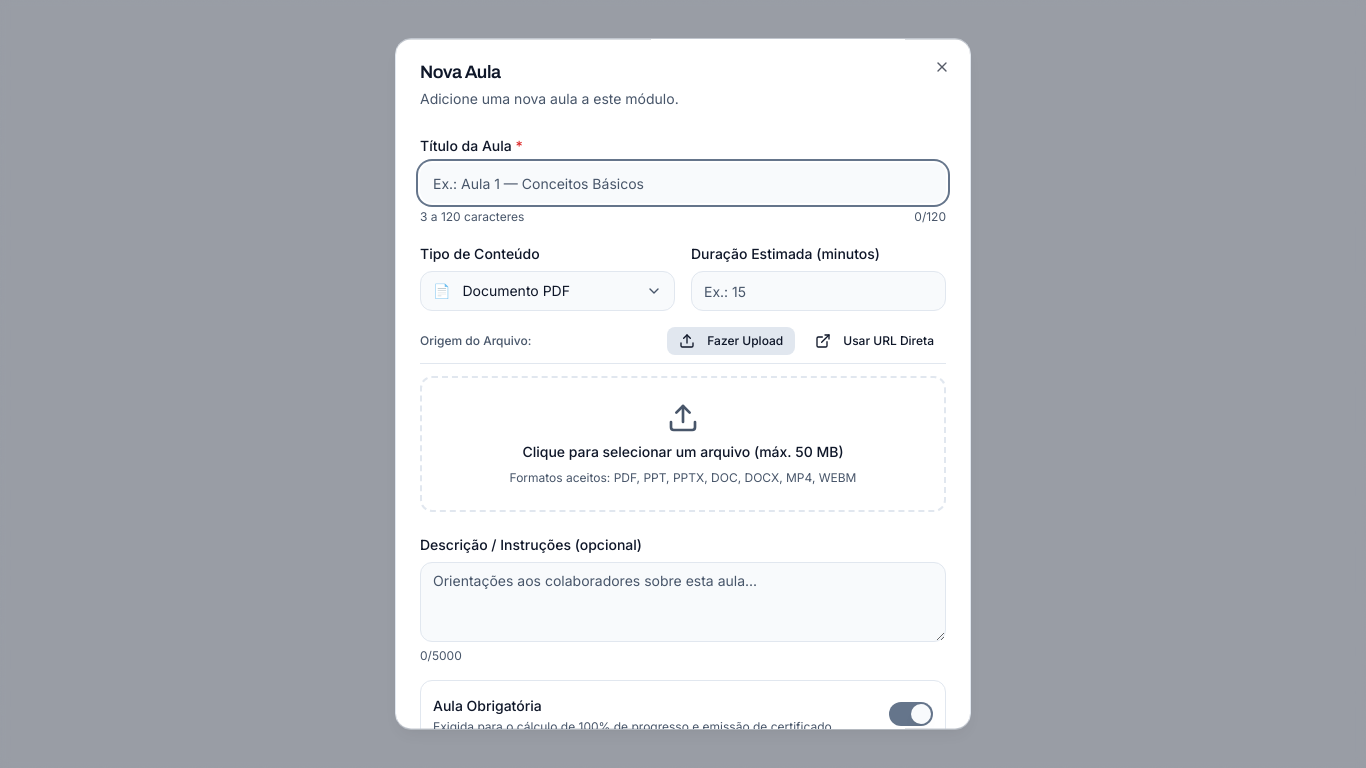
Scenario: ETAPA 9.6 — CRUD de Módulos, Aulas e Quiz (Passo 8.1 Validações) › c) valida título de aula (< 3 caracteres recusa)
The width and height of the screenshot is (1366, 768).
Type "Oi" into the field labelled "Título da Aula *" at (683, 183), box [420, 163, 946, 203]
(page scrolled)
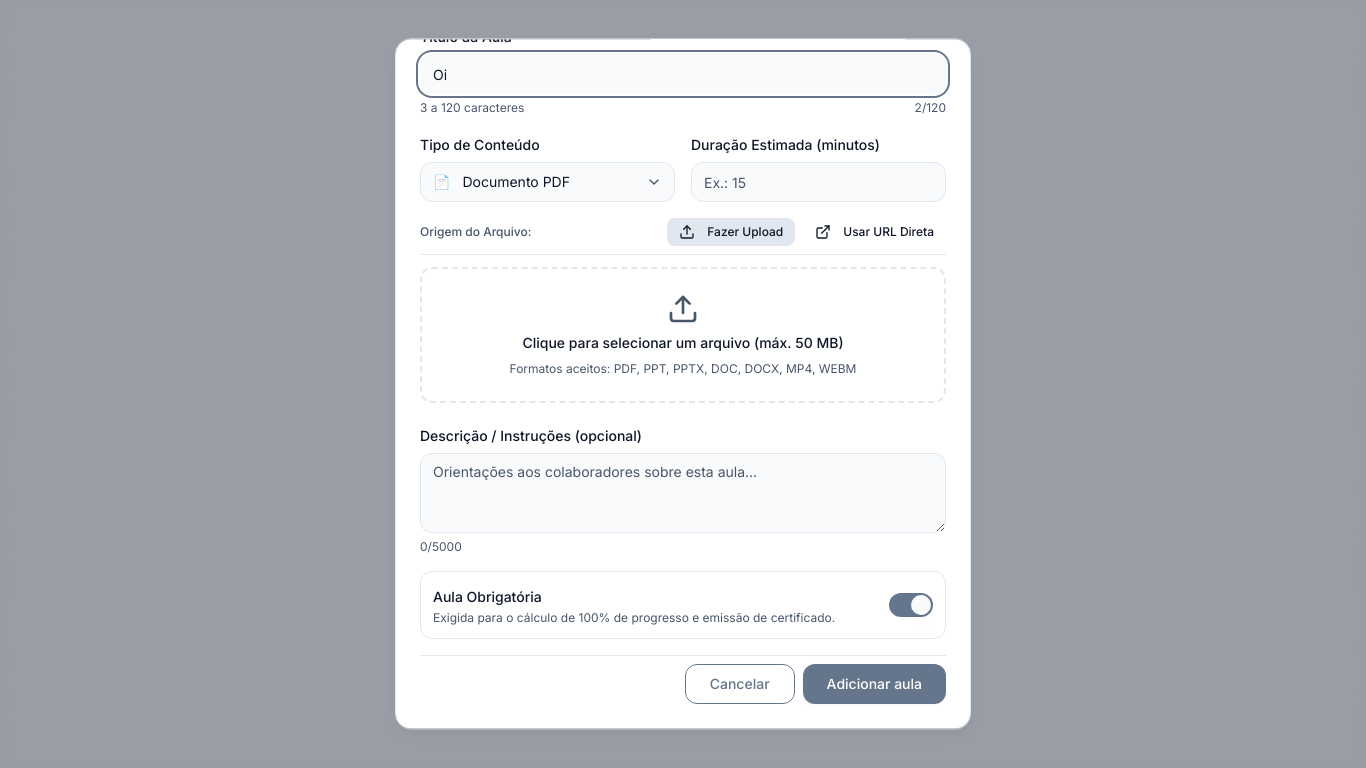
Click the button "Adicionar aula" at (874, 684), box [803, 664, 946, 704]
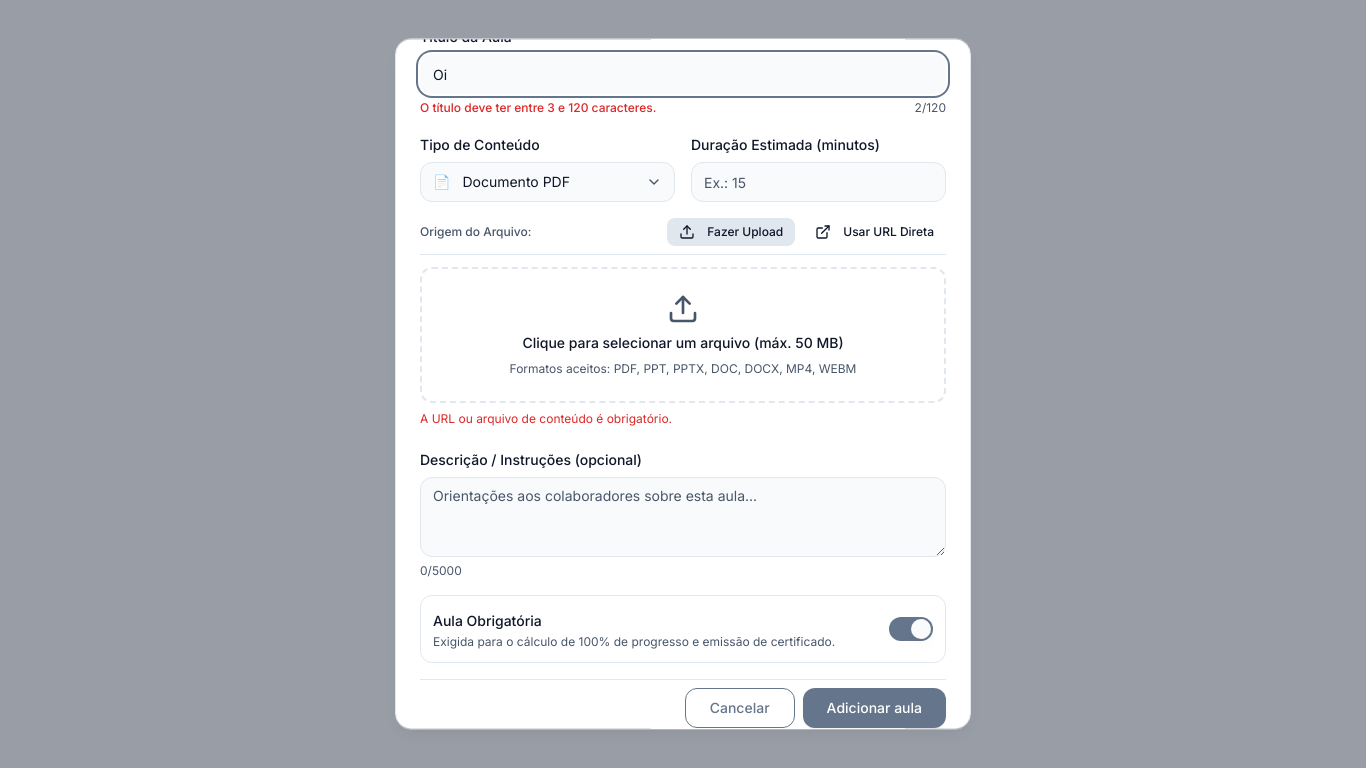
Expected: the text "O título deve ter entre 3 e 120 caracteres." is shown, [420, 100, 656, 116]
